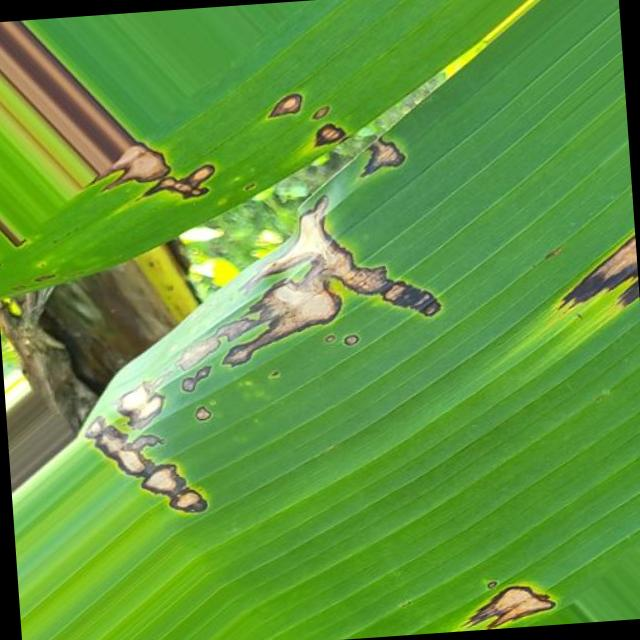Banana_Black_Sigatoka: (0, 77, 463, 536), (430, 532, 597, 632), (540, 212, 640, 347)
